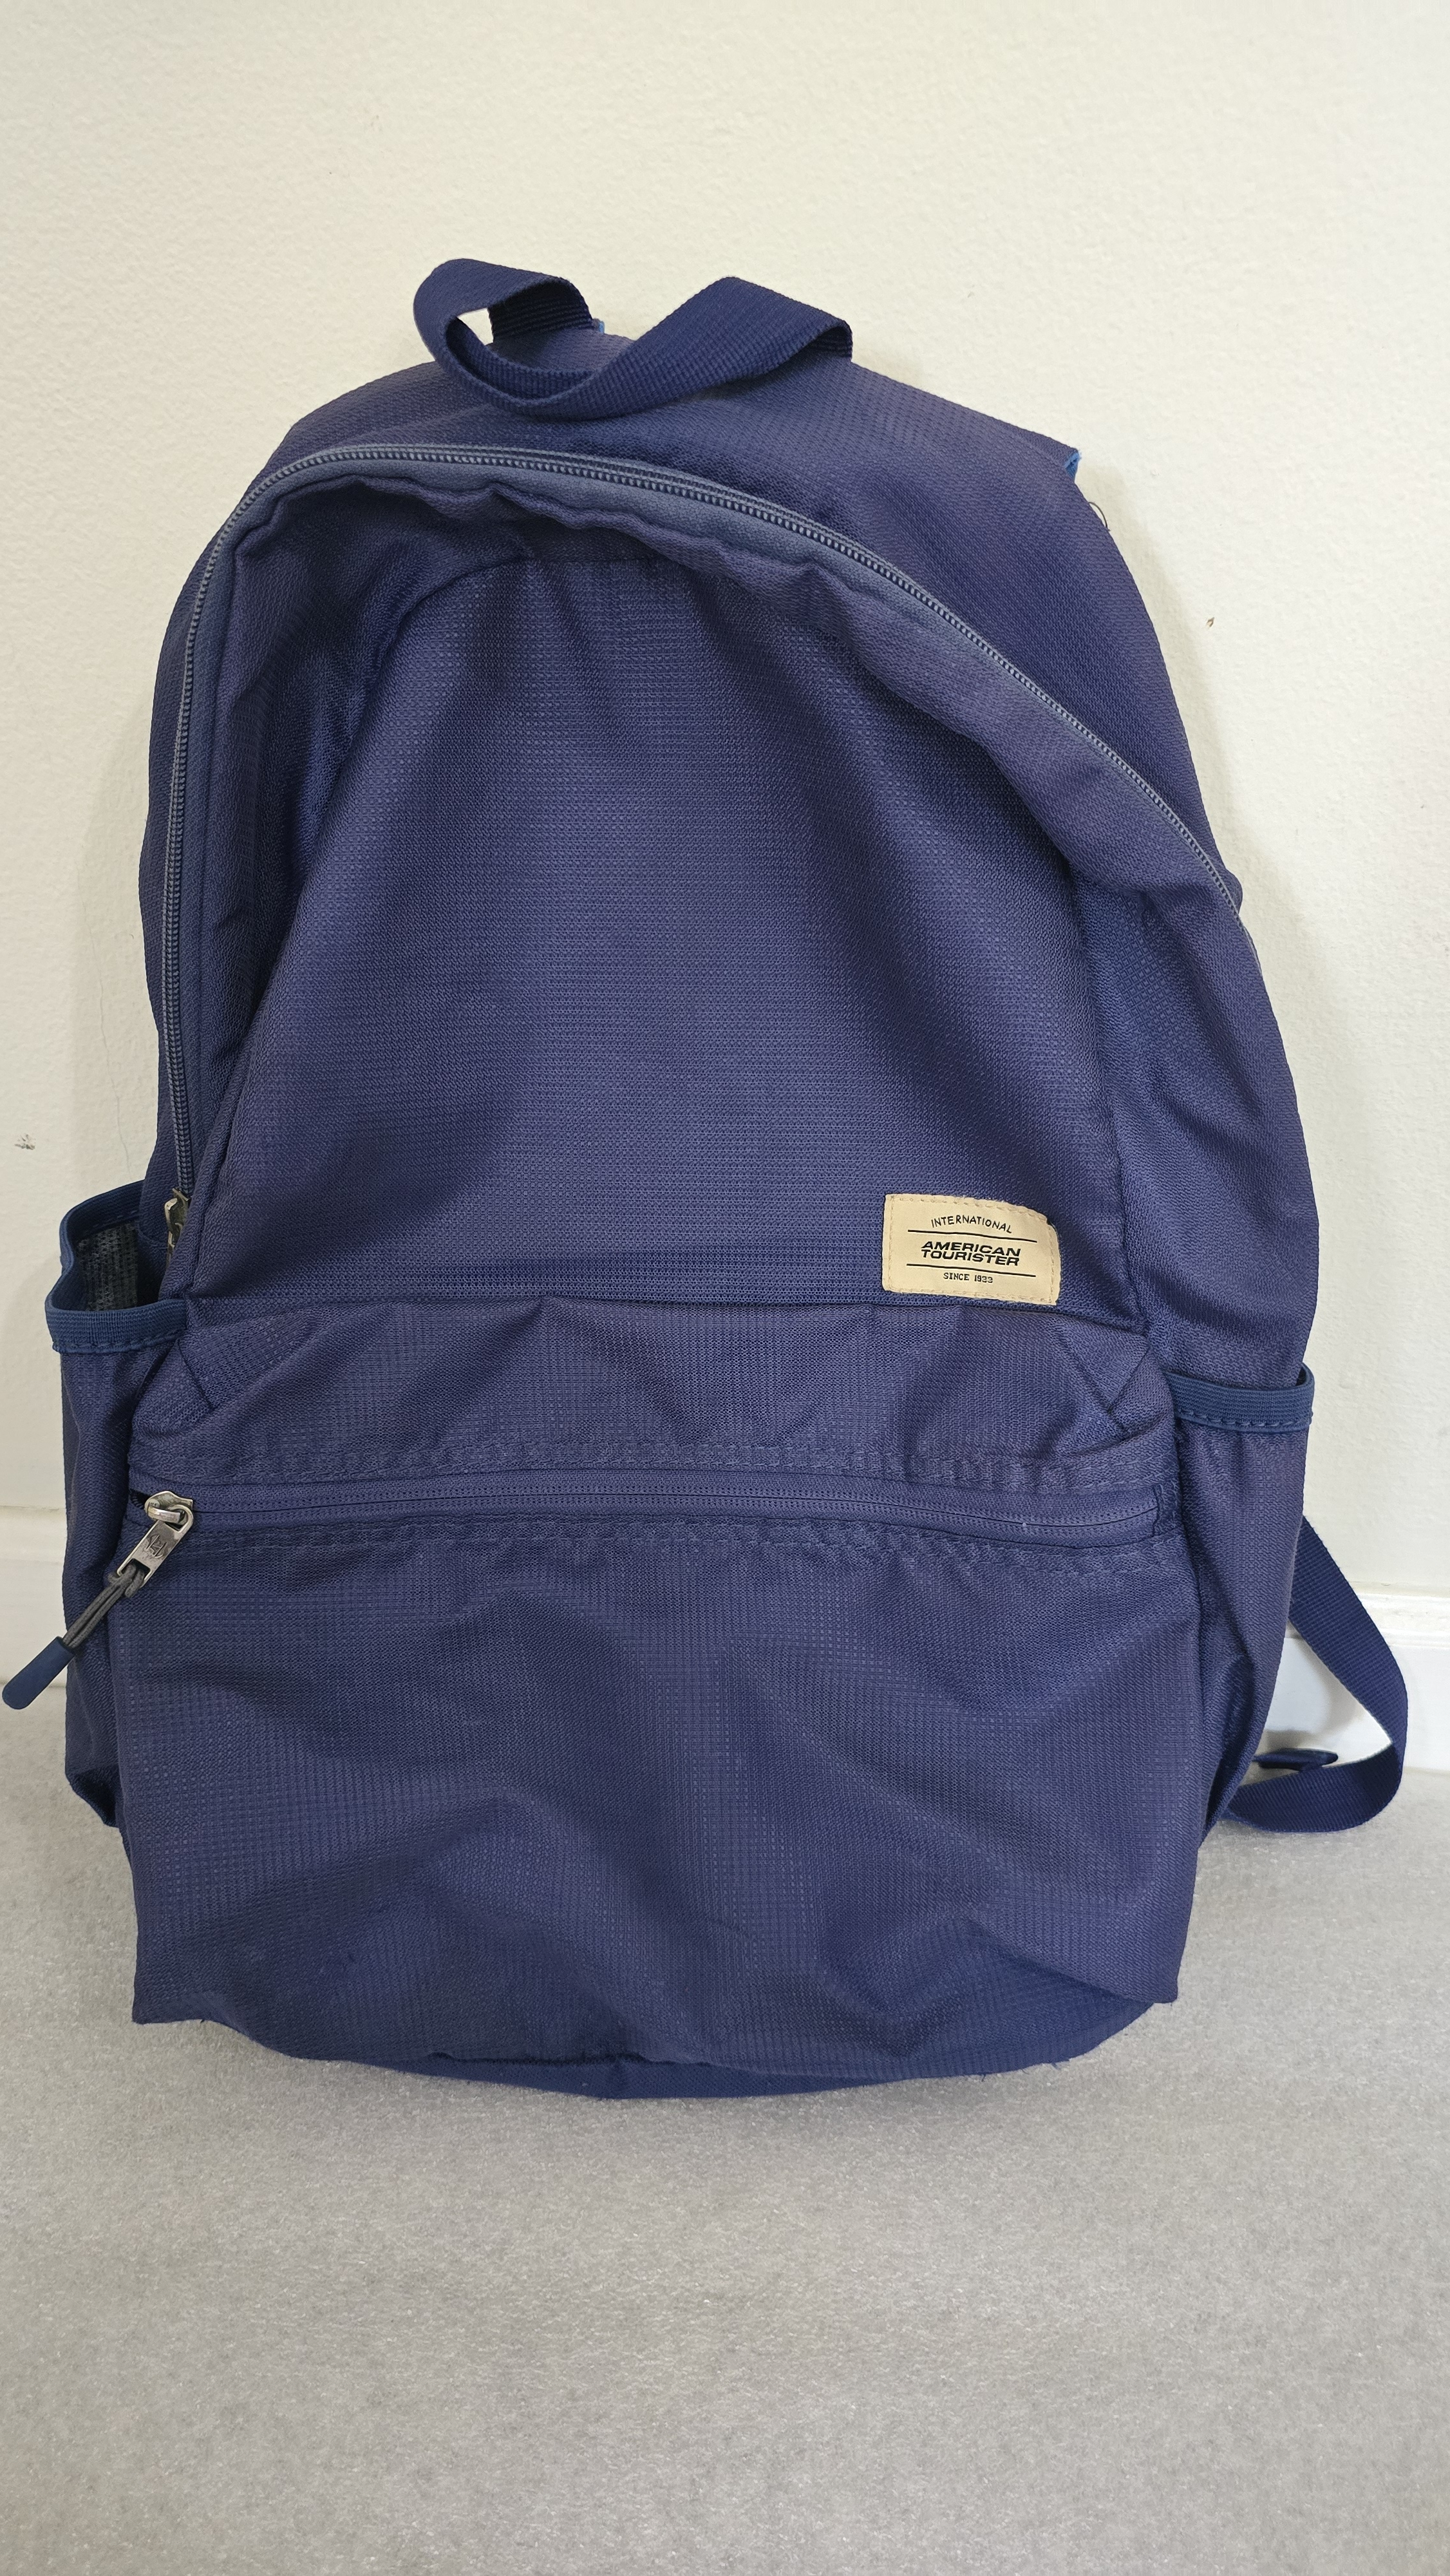bag: (104, 212, 1399, 2084)
